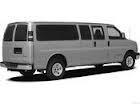car: (2, 22, 140, 81)
